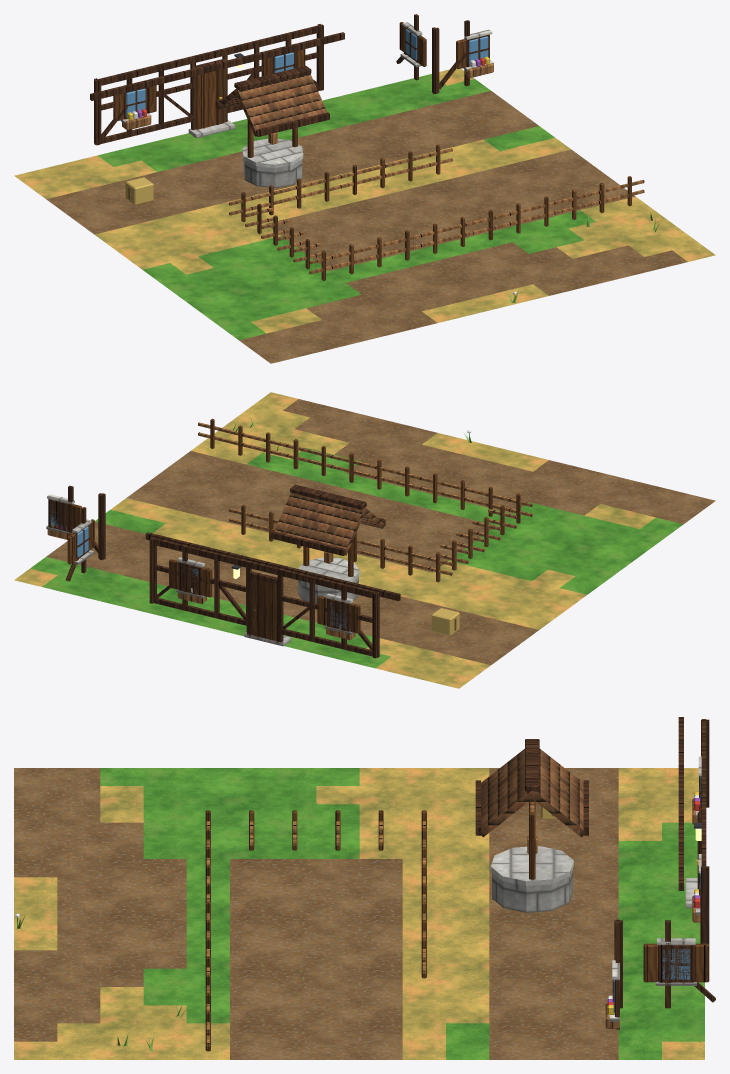
The model's file is chunk_9_10.glb.
The picture shows the model from 3 angles, top to bottom: view 1: azimuth 30°, elevation 25°; view 2: azimuth 150°, elevation 25°; view 3: azimuth 270°, elevation 25°; orthographic projection. The views are drawn at different scales.
Parts seen in each view (by area): view 1: chunk_9_10; view 2: chunk_9_10; view 3: chunk_9_10.
Part boxes in pixels (x1,y1,x2,y2): chunk_9_10: (14, 14, 715, 363); chunk_9_10: (14, 392, 715, 688); chunk_9_10: (14, 717, 715, 1059).
Size of the model in its own units: 16 by 3.41 by 16.25.
Materials: 21 (11 with a texture image).
